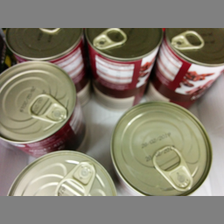beans: (1, 61, 82, 154), (84, 29, 159, 113), (160, 26, 224, 106)
